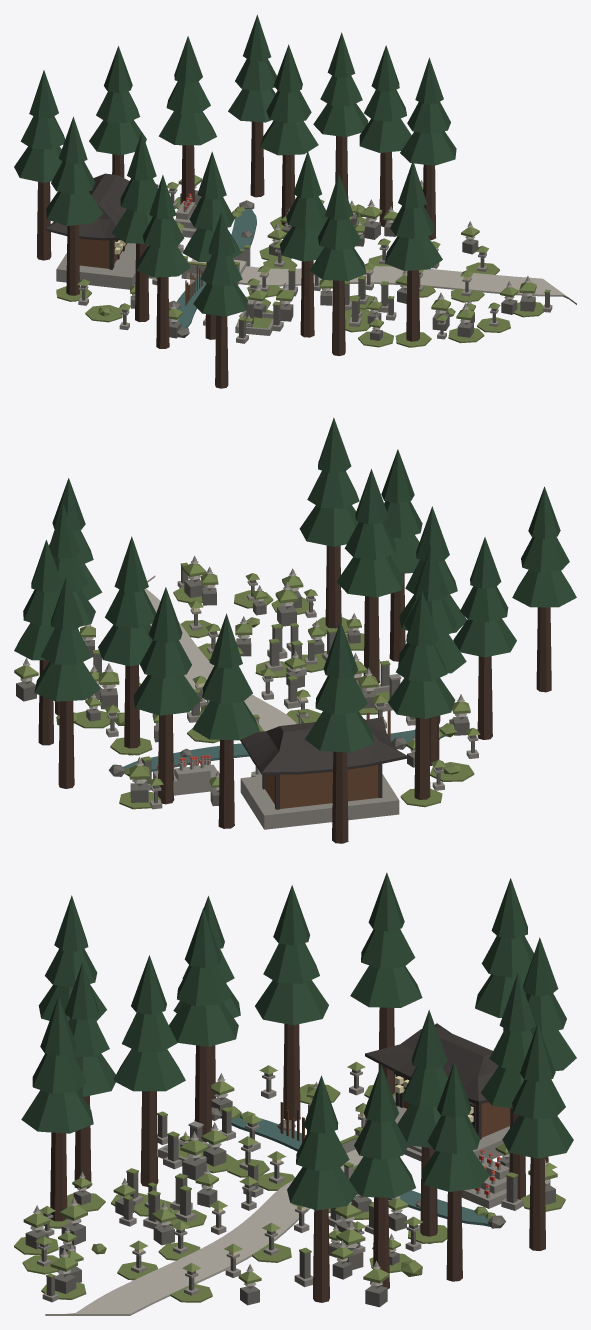
File: koyasan-okunoin.glb
The picture shows the model from 3 angles, top to bottom: view 1: azimuth 30°, elevation 25°; view 2: azimuth 150°, elevation 25°; view 3: azimuth 270°, elevation 25°; orthographic projection. The views are drawn at different scales.
Visible parts, largest first — view 1: oku_cedar, oku_bark, oku_moss, oku_stone, oku_stoned, oku_pave, oku_roof, oku_water, oku_wood; view 2: oku_cedar, oku_bark, oku_moss, oku_stone, oku_stoned, oku_roof, oku_wood, oku_pave, oku_water; view 3: oku_cedar, oku_bark, oku_moss, oku_stoned, oku_stone, oku_pave, oku_roof, oku_water, oku_wood.
Boxes of the visible parts, x1,y1,x2,y2 form: oku_cedar: (14, 14, 456, 316); oku_bark: (37, 121, 436, 388); oku_moss: (56, 175, 550, 347); oku_stone: (56, 180, 552, 343); oku_stoned: (80, 188, 549, 340); oku_pave: (186, 259, 576, 304); oku_roof: (45, 173, 158, 269); oku_water: (176, 208, 256, 327); oku_wood: (79, 238, 202, 305); oku_cedar: (14, 417, 576, 752); oku_bark: (38, 545, 551, 843); oku_moss: (14, 562, 480, 809); oku_stone: (20, 555, 478, 829); oku_stoned: (16, 565, 476, 806); oku_roof: (240, 717, 407, 809); oku_wood: (265, 710, 390, 808); oku_pave: (144, 575, 296, 731); oku_water: (123, 727, 445, 771); oku_cedar: (21, 872, 576, 1210); oku_bark: (50, 1007, 548, 1302); oku_moss: (14, 1061, 565, 1302); oku_stoned: (25, 1069, 555, 1307); oku_stone: (30, 1071, 554, 1302); oku_pave: (45, 1149, 363, 1315); oku_roof: (365, 1023, 498, 1139); oku_water: (220, 1115, 497, 1228); oku_wood: (280, 1078, 510, 1142).
Bounding box in the file's own units: 21.88 × 10.03 × 21.86.
